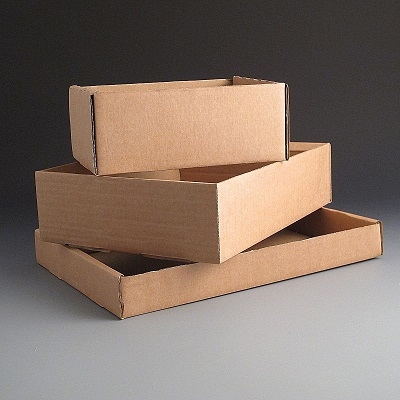Rec_Paper: (23, 31, 389, 307), (53, 63, 311, 173)
